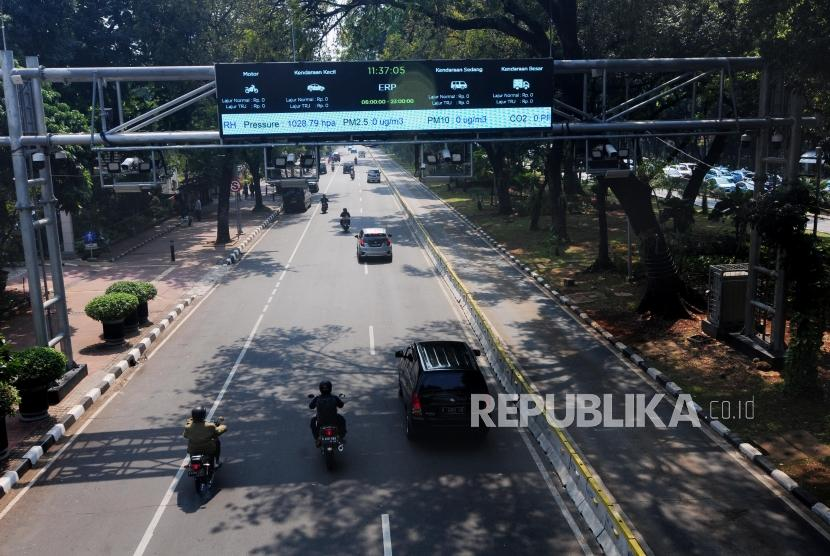car: (398, 341, 485, 447), (356, 227, 392, 264)
motorbike: (187, 404, 227, 499), (309, 377, 346, 468), (340, 208, 351, 234), (321, 195, 329, 213)
